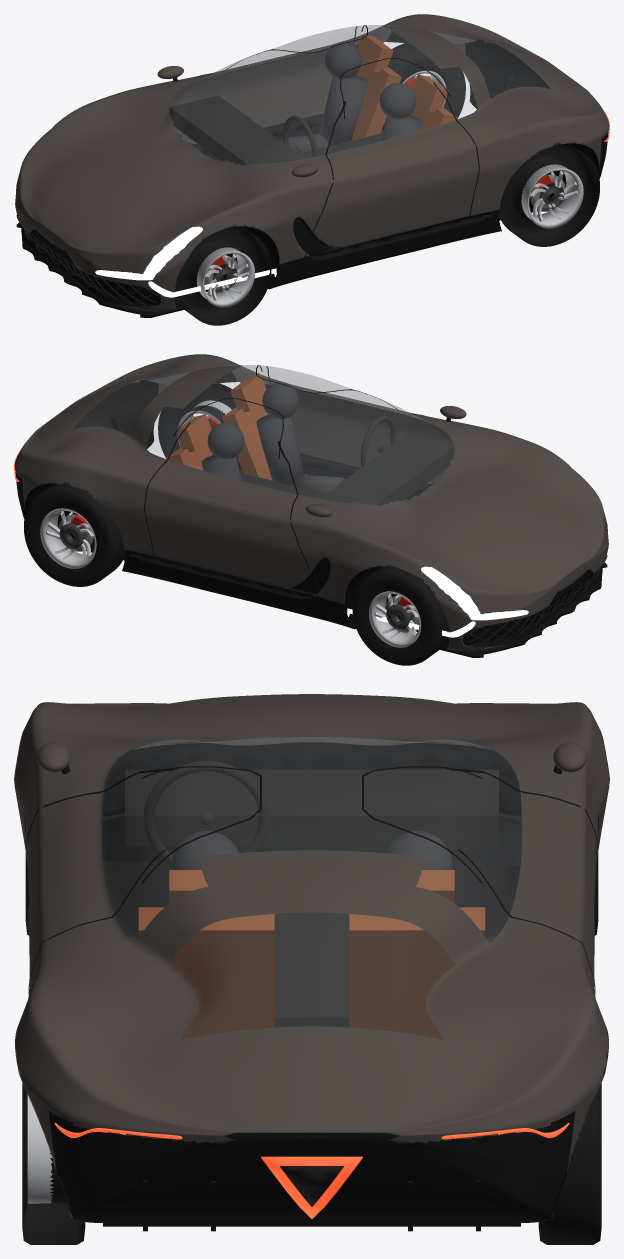
File: carro-v3.glb
The picture shows the model from 3 angles, top to bottom: view 1: azimuth 30°, elevation 25°; view 2: azimuth 150°, elevation 25°; view 3: azimuth 270°, elevation 25°; orthographic projection. The views are drawn at different scales.
Parts seen in each view (by area): view 1: Carroceria, Tablero, Llanta.002, Llanta, Piloto.004, LuzDelantera, Llanta.003, Respaldo.001, Rin.002, Rin, Splitter, Cabeza (+10 smaller); view 2: Carroceria, Llanta.003, Tablero, Llanta.001, Piloto, Llanta.002, LuzDelantera, Respaldo, Rin.003, Splitter, Rin.001, Cabeza.001 (+13 smaller); view 3: Carroceria, Tablero, Respaldo, Respaldo.001, Tunel, Llanta.003, Splitter, Llanta.002, LuzTrasera, Volante, Rin.002, Cabeza (+6 smaller).
Part boxes in pixels (x1,y1,x2,y2): Carroceria: (15,14,609,311); Tablero: (169,95,304,165); Llanta.002: (499,143,599,246); Llanta: (175,226,271,325); Piloto.004: (319,74,367,145); LuzDelantera: (14,122,276,297); Llanta.003: (381,43,465,130); Respaldo.001: (351,62,401,140); Rin.002: (521,164,583,228); Rin: (196,247,254,307); Splitter: (16,222,188,317); Cabeza: (379,83,416,119); Carroceria: (14,354,608,651); Llanta.003: (24,483,124,586); Tablero: (319,435,454,505); Llanta.001: (352,566,448,665); Piloto: (256,414,304,485); Llanta.002: (158,383,242,470); LuzDelantera: (347,462,609,637); Respaldo: (222,402,272,480); Rin.003: (40,508,96,568); Splitter: (439,562,607,657); Rin.001: (369,591,421,647); Cabeza.001: (207,423,244,459); Carroceria: (14,694,609,1226); Tablero: (125,769,498,846); Respaldo: (138,907,274,1039); Respaldo.001: (349,907,485,1039); Tunel: (274,912,349,1027); Llanta.003: (538,1083,601,1244); Splitter: (102,816,521,861); Llanta.002: (22,1083,85,1244); LuzTrasera: (54,1123,569,1218); Volante: (143,760,269,865); Rin.002: (27,1095,53,1203); Cabeza: (171,831,239,869).
Bounding box in the file's own units: 3.38 × 1.06 × 1.75.
